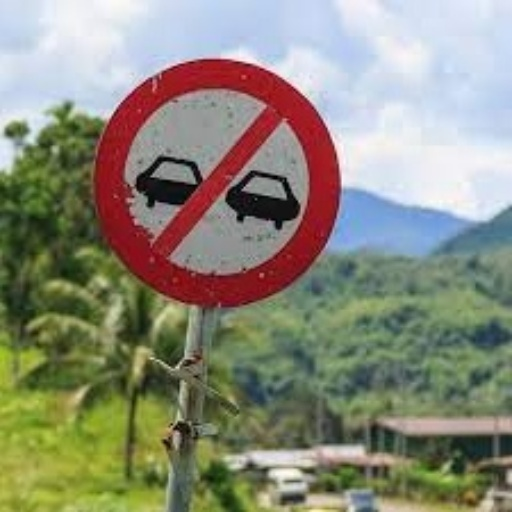No overtake: (66, 43, 360, 328)
